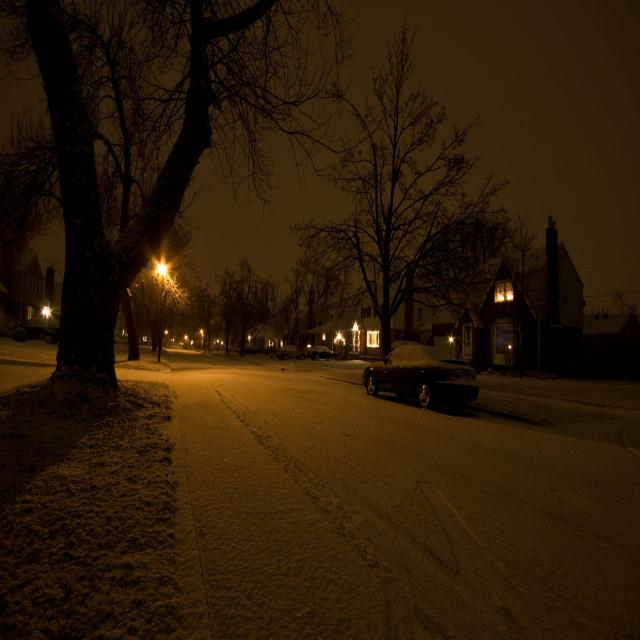car: (369, 324, 490, 432), (312, 323, 338, 375), (279, 337, 311, 376)
